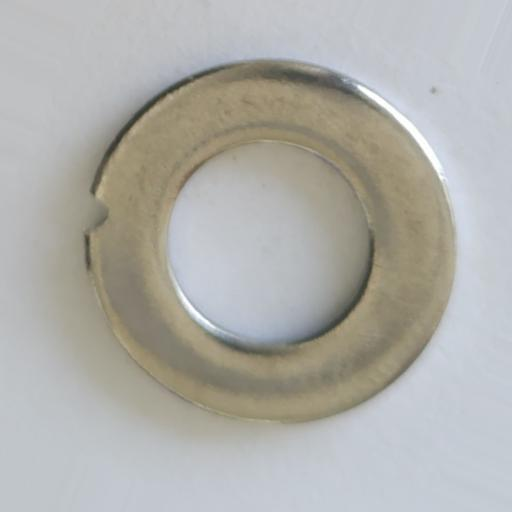burr: (84, 189, 109, 232)
